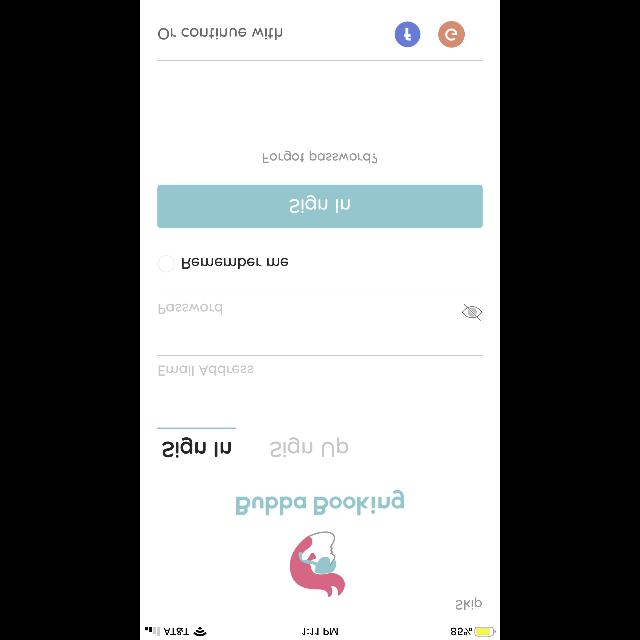checkbox: (158, 255, 175, 272)
icon: (439, 21, 465, 47), (396, 22, 420, 46), (462, 304, 482, 320)
image: (290, 532, 346, 596)
input: (158, 294, 482, 320), (158, 356, 482, 376)
text: (236, 490, 404, 516), (270, 437, 348, 457), (158, 28, 282, 40), (263, 150, 377, 163), (163, 437, 231, 457), (182, 257, 288, 269), (159, 366, 253, 376), (159, 304, 223, 314), (456, 598, 482, 610)
textbutton: (158, 184, 482, 228)
uppertaskbar: (140, 626, 500, 640)
